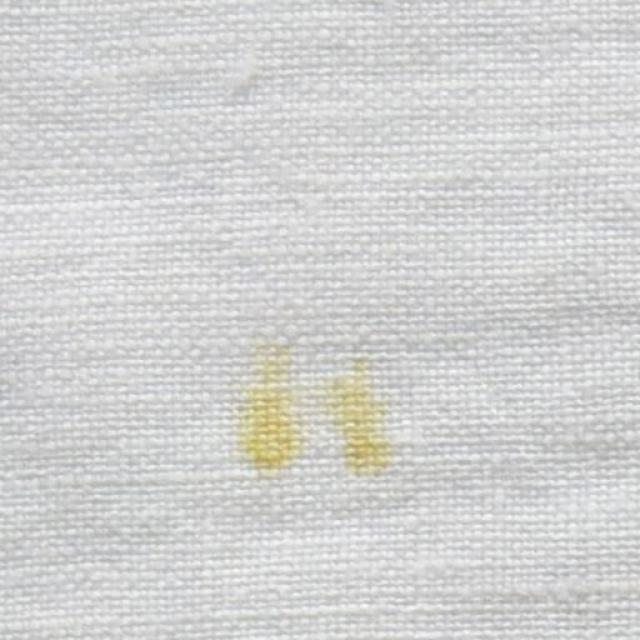Knot: (225, 52, 258, 92)
Stain: (321, 360, 394, 476), (239, 342, 304, 469)
